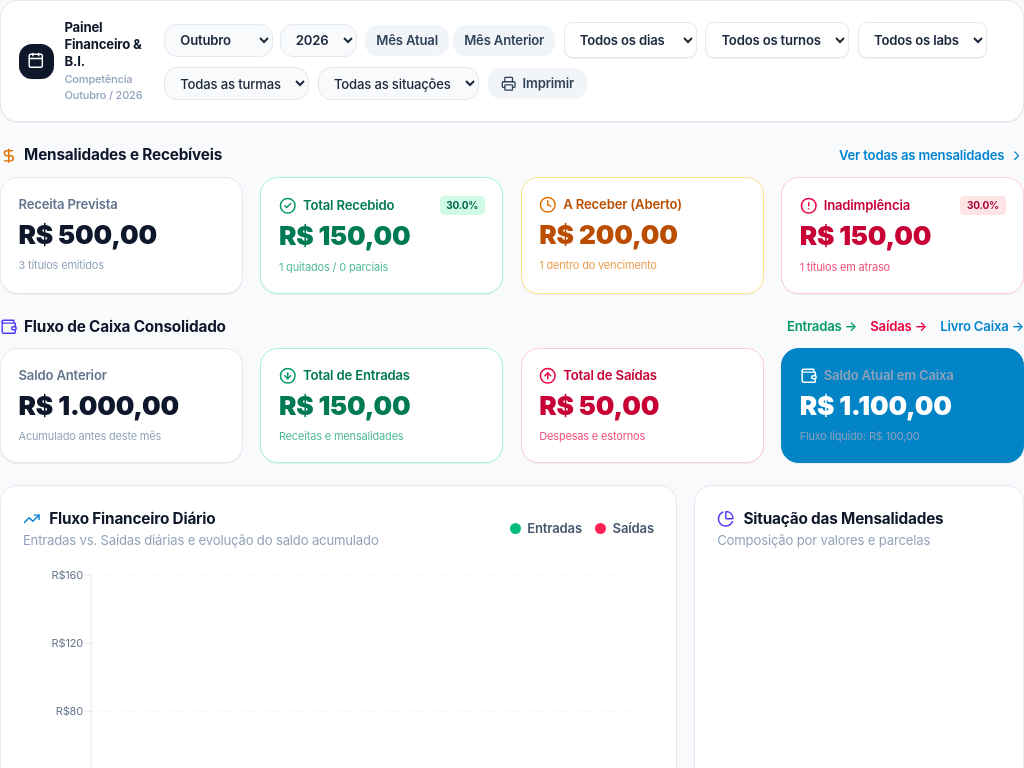
FinanceDashboardPage › filters data dynamically when Turma is selected
This screenshot has width=1024, height=768.
Select Turma 02 - Design
Select "02 - Design" in the dropdown named "Filtrar por turma" at (237, 84), box [164,67,309,100]
(page scrolled)
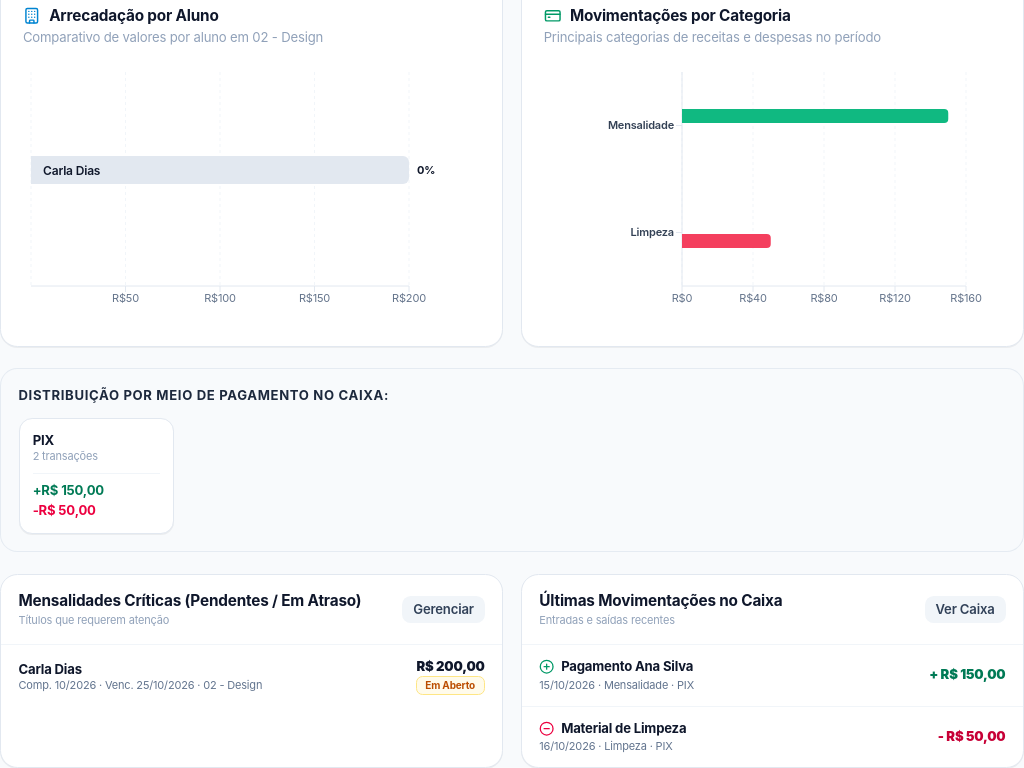
Expected: the text "Carla Dias" is shown, [18,661,82,677]
Now the text "Arrecadação por Aluno" is shown, box [49,5,219,26]
